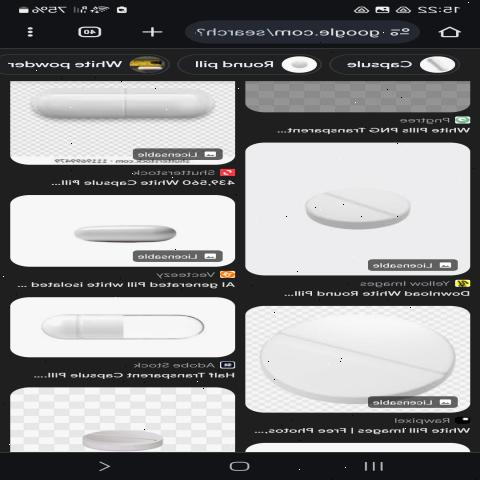Pill: (252, 311, 467, 406), (298, 175, 429, 252), (22, 82, 220, 128), (27, 308, 214, 351), (62, 216, 185, 246), (64, 424, 173, 451)
